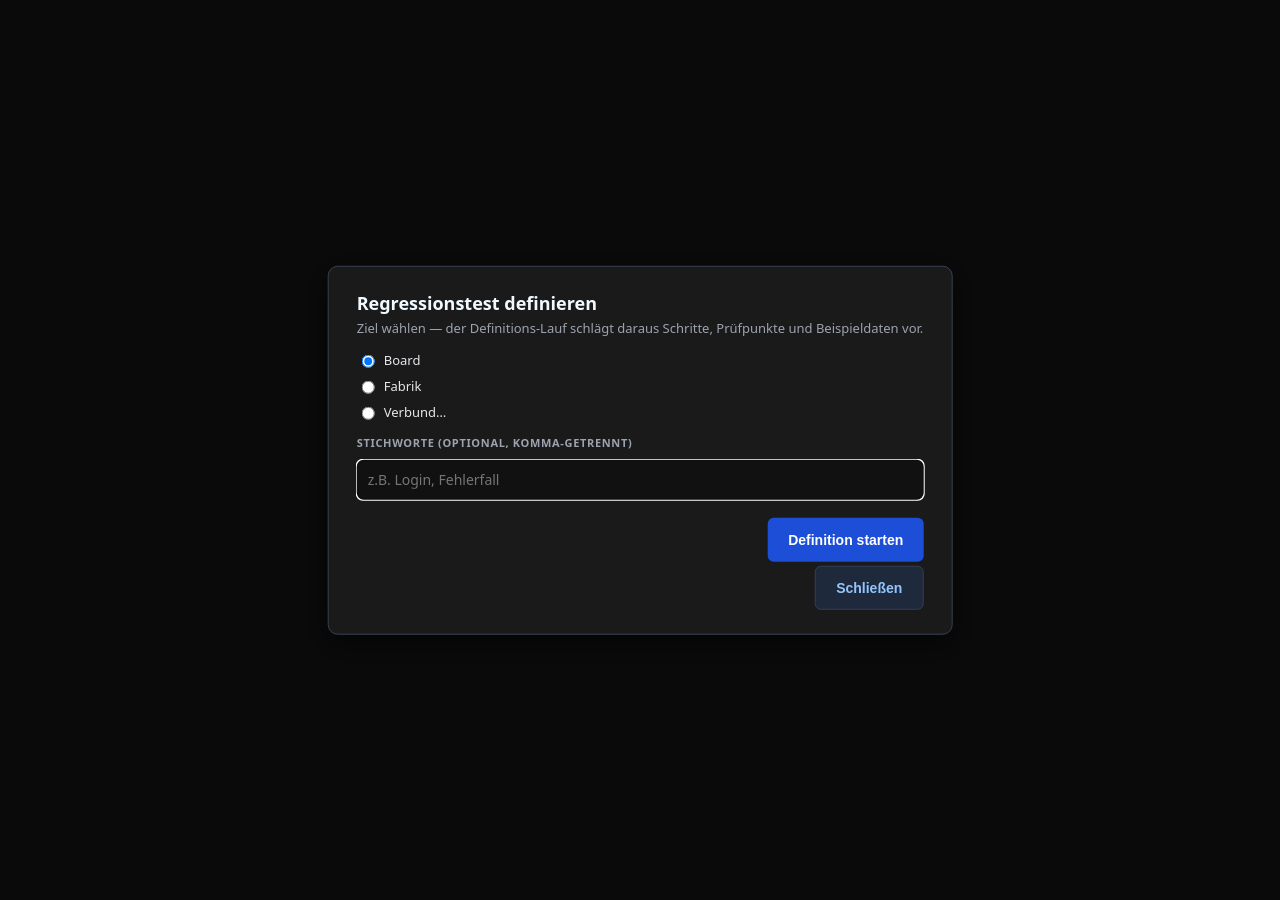
Scenario: regression-define-dialog AC8 — failed/auth-expired/E2 zeigen klare Fehlermeldung, Retry › failed (E2 „Bereich ohne deckende Specs") zeigt die Backend-Meldung 1:1, kein leeres Overlay
Step 1. Click the button "Definition starten" → (846, 539), box x1=768 y1=517 x2=923 y2=561
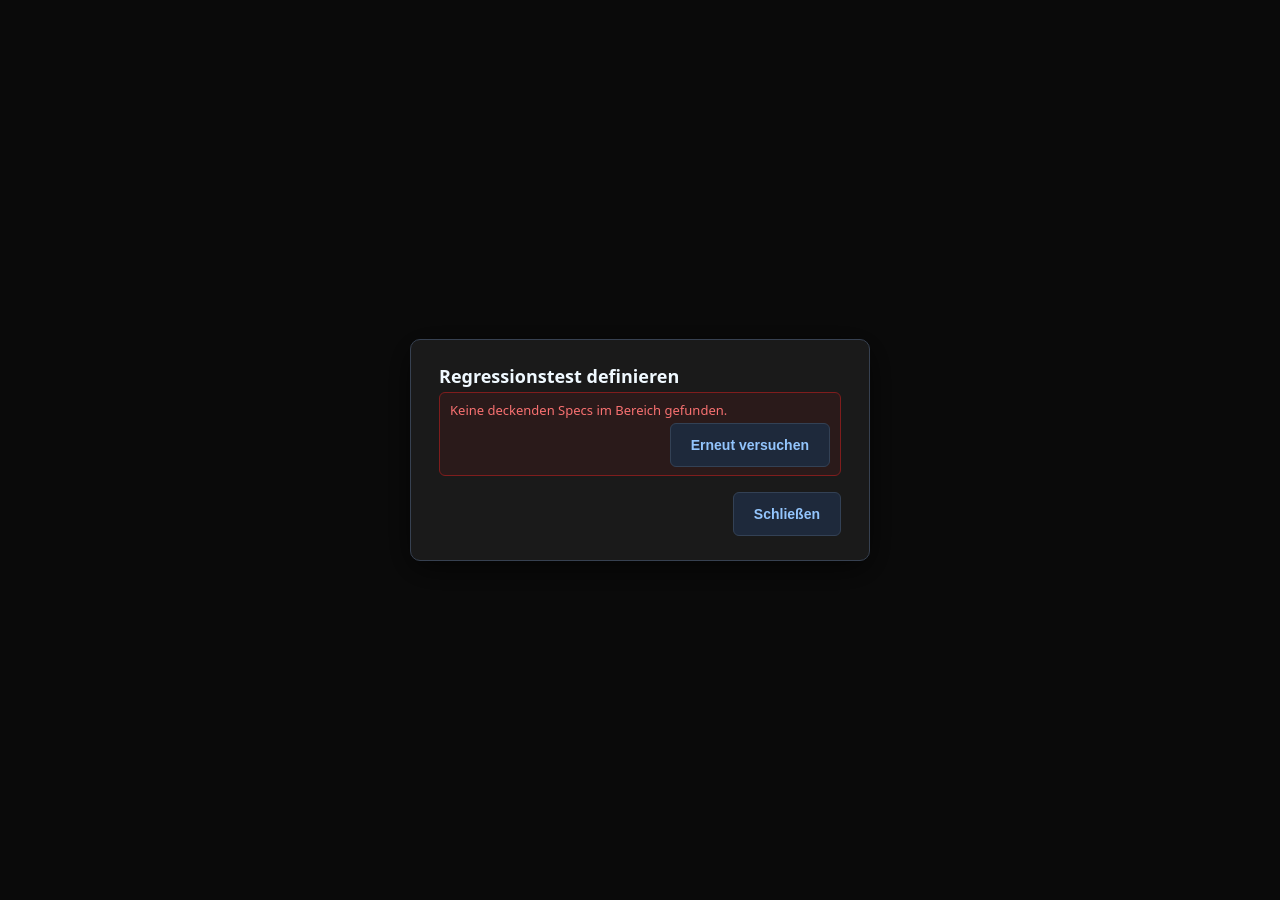
Check: the text "Keine deckenden Specs" is shown, box x1=450 y1=401 x2=727 y2=419
